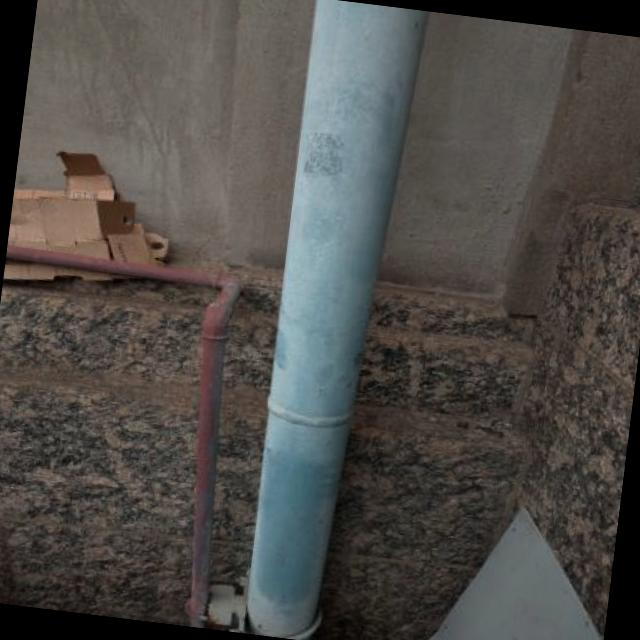gas: (234, 1, 418, 640), (8, 244, 251, 628)
